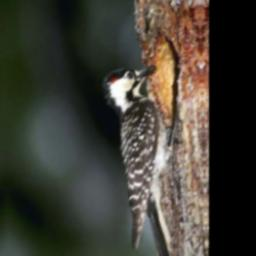Woodpecker: (98, 61, 187, 256)
